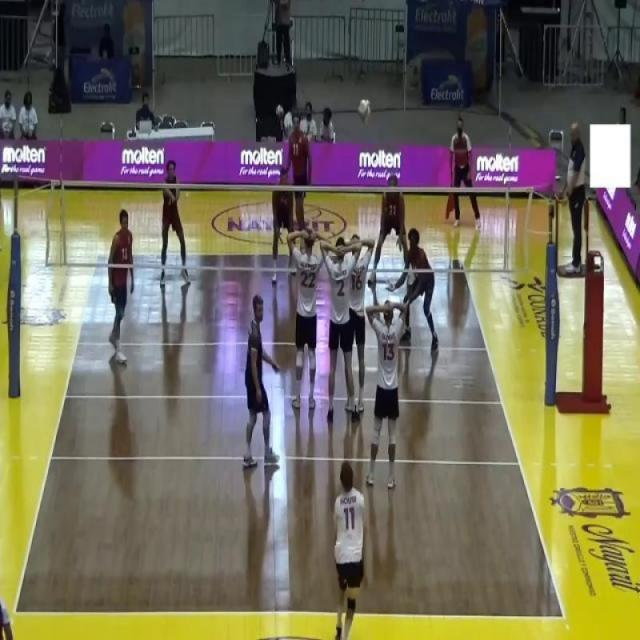volleyball: (358, 98, 370, 124)
